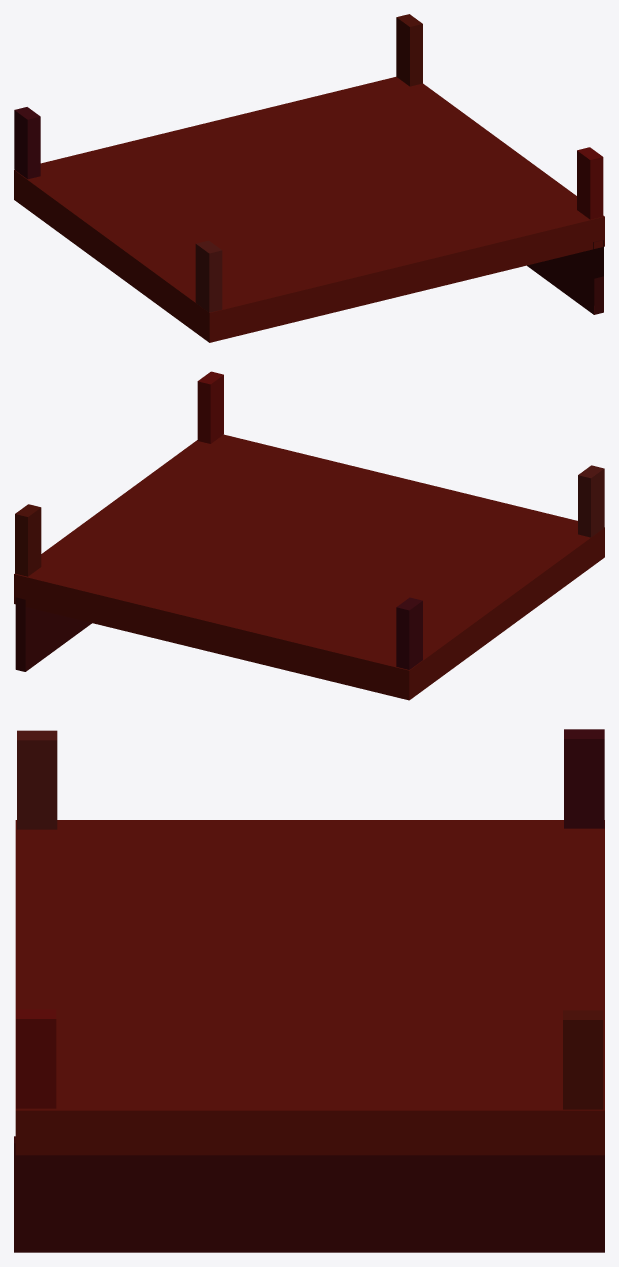
Rendered from cot.fbx.
3 renders of one model, top to bottom at view 1: azimuth 30°, elevation 25°; view 2: azimuth 150°, elevation 25°; view 3: azimuth 270°, elevation 25°, orthographic. The views are drawn at different scales.
Parts seen in each view (by area): view 1: Cube.009; view 2: Cube.009; view 3: Cube.009.
Part boxes in pixels (x1,y1,x2,y2): Cube.009: (14,14,604,342); Cube.009: (14,371,604,700); Cube.009: (14,729,604,1252).
Bounding box in the file's own units: 11.42 × 4.28 × 9.81.
